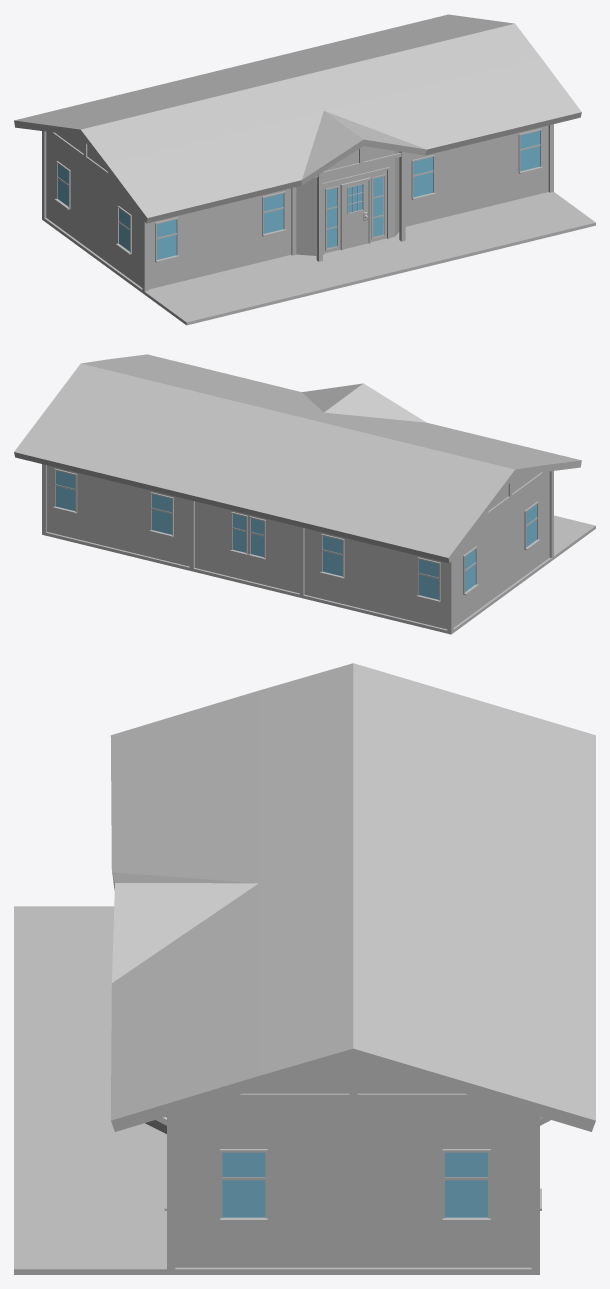
Rendered from House_07.gltf.
The picture shows the model from 3 angles, top to bottom: view 1: azimuth 30°, elevation 25°; view 2: azimuth 150°, elevation 25°; view 3: azimuth 270°, elevation 25°; orthographic projection. The views are drawn at different scales.
Visible parts, largest first — view 1: Hous_07; view 2: Hous_07; view 3: Hous_07.
Part boxes in pixels (x1,y1,x2,y2): Hous_07: [14, 14, 595, 325]; Hous_07: [14, 354, 595, 634]; Hous_07: [14, 663, 595, 1274].
Bounding box in the file's own units: 15 × 4.31 × 9.57.
